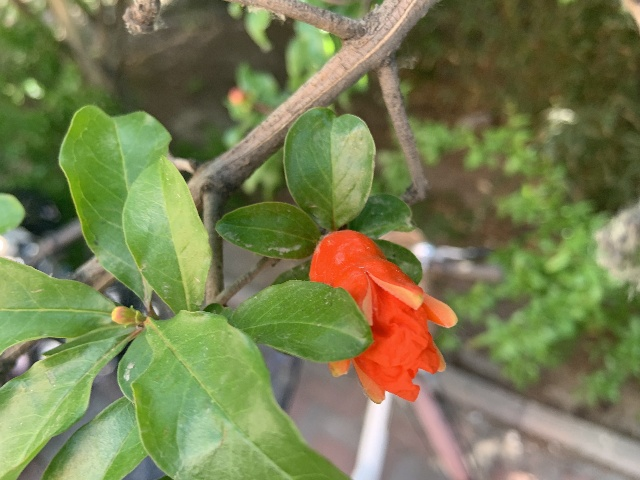flower: (309, 229, 457, 404)
